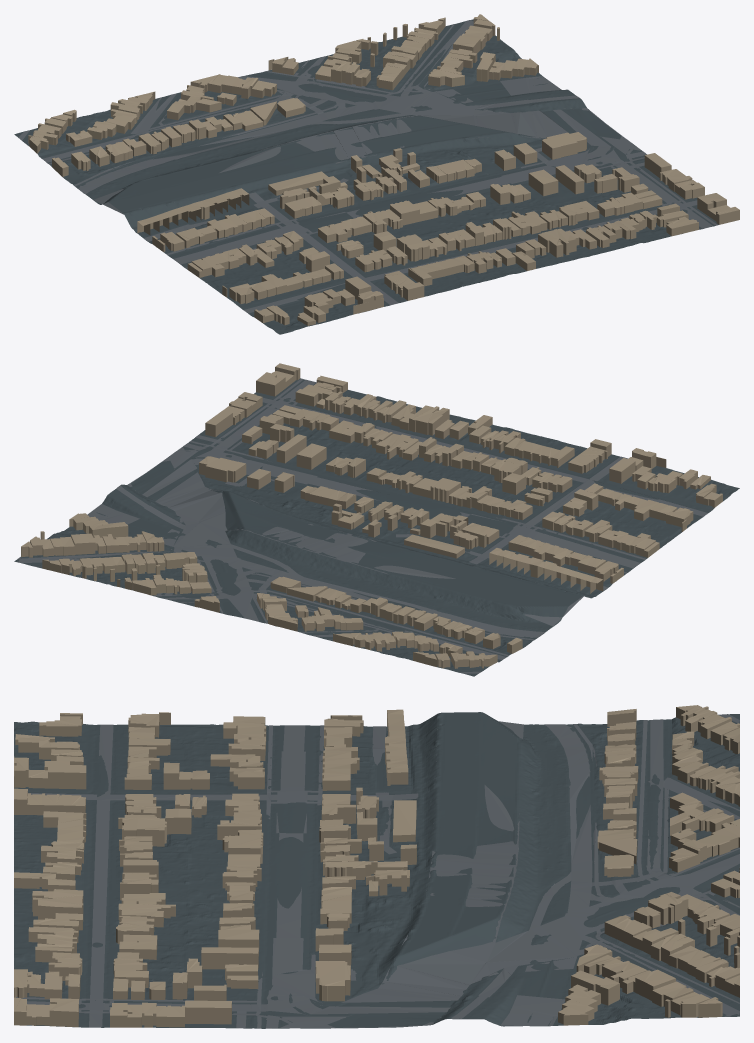
Rendered from epsg26910-1426-10869.lod0.glb.
3 views of the same model, one above another, from view 1: azimuth 30°, elevation 25°; view 2: azimuth 150°, elevation 25°; view 3: azimuth 270°, elevation 25° (orthographic). The views are drawn at different scales.
Parts seen in each view (by area): view 1: epsg26910-1426-10869-lod0; view 2: epsg26910-1426-10869-lod0; view 3: epsg26910-1426-10869-lod0.
Part boxes in pixels (box(x1,y1,x2,y2)): epsg26910-1426-10869-lod0: box(14, 14, 739, 334); epsg26910-1426-10869-lod0: box(14, 363, 739, 676); epsg26910-1426-10869-lod0: box(14, 705, 739, 1028).
Size of the model in its own units: 384 by 19.59 by 384.
